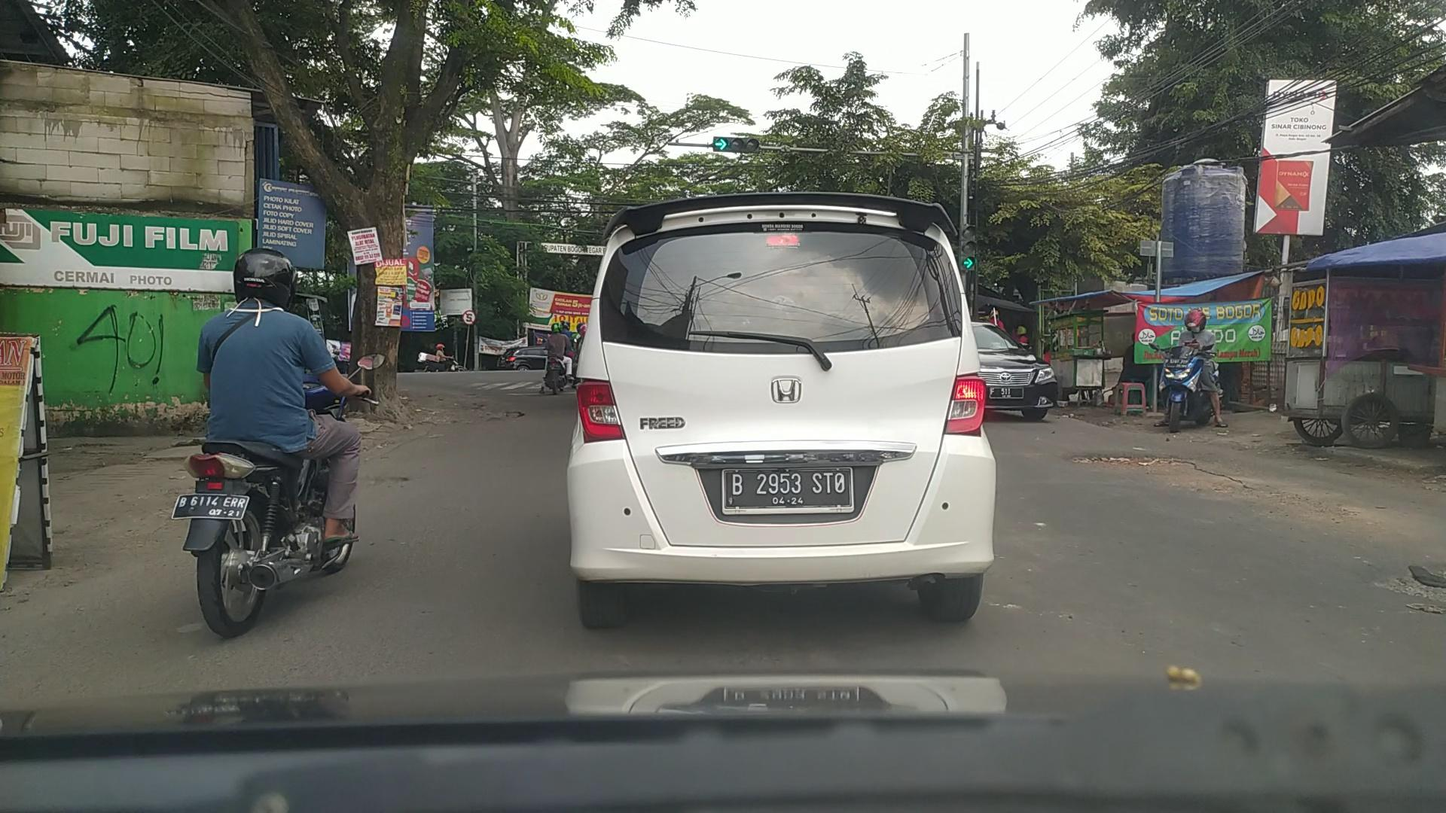pothole: (1064, 452, 1256, 496)
